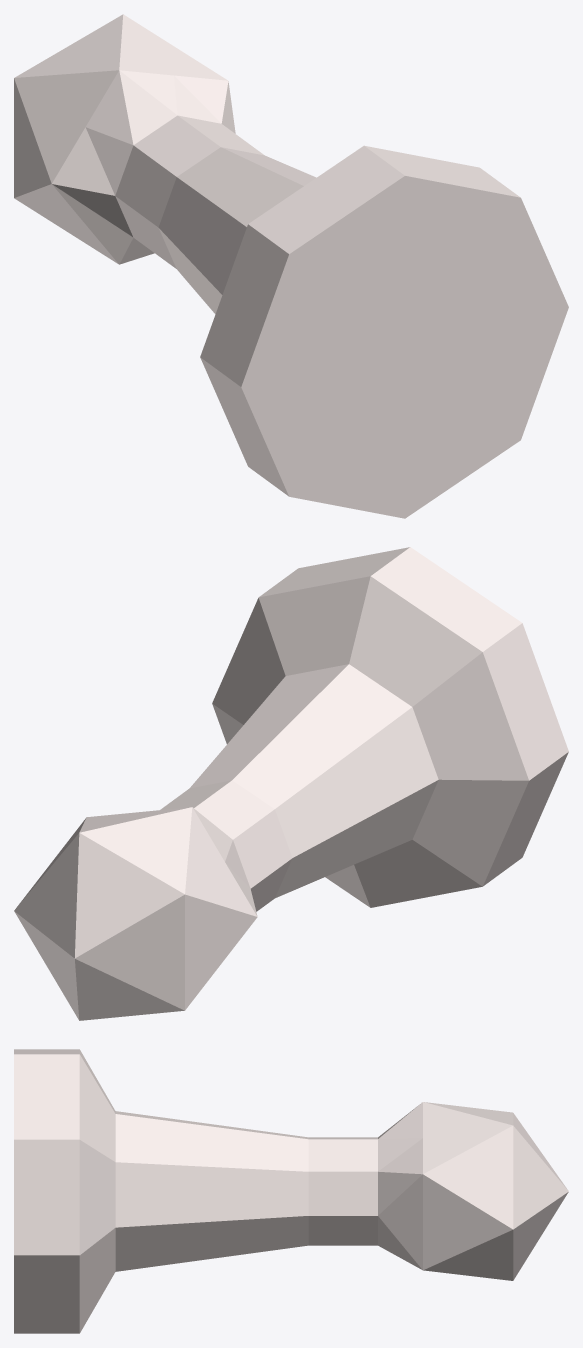
Rendered from Game_Piece_White.fbx.
The picture shows the model from 3 angles, top to bottom: view 1: azimuth 30°, elevation 25°; view 2: azimuth 150°, elevation 25°; view 3: azimuth 270°, elevation 25°; orthographic projection. The views are drawn at different scales.
Visible parts, largest first — view 1: Game_Piece_White; view 2: Game_Piece_White; view 3: Game_Piece_White.
Boxes of the visible parts, left/top/right/bottom form: Game_Piece_White: left=14, top=14, right=568, bottom=518; Game_Piece_White: left=14, top=547, right=568, bottom=1020; Game_Piece_White: left=14, top=1049, right=568, bottom=1333.
Bounding box in the file's own units: 0.6 × 0.6 × 1.1.
1 material, 1 textured.
